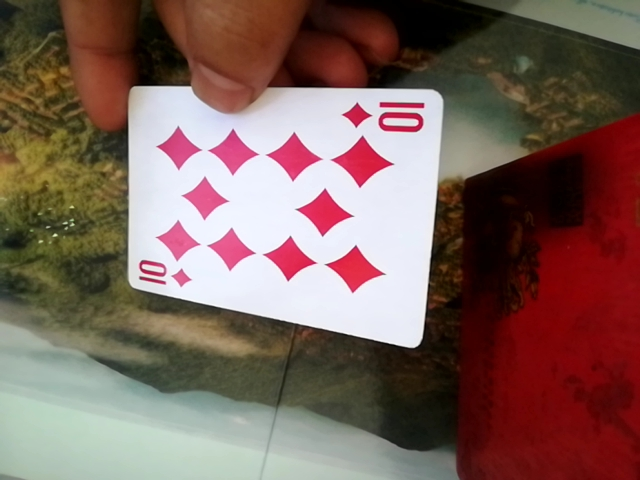fk 10: (122, 81, 444, 348)
